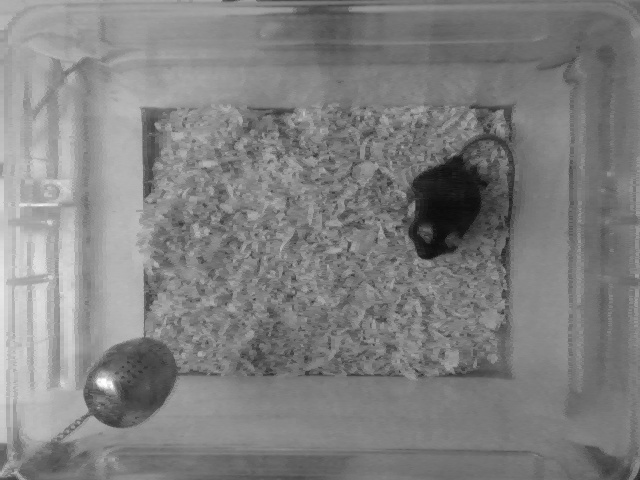mice: (405, 134, 521, 265)
